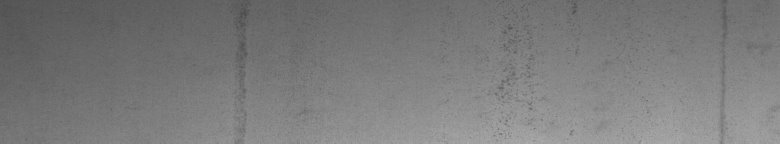ib: (494, 4, 577, 136)
